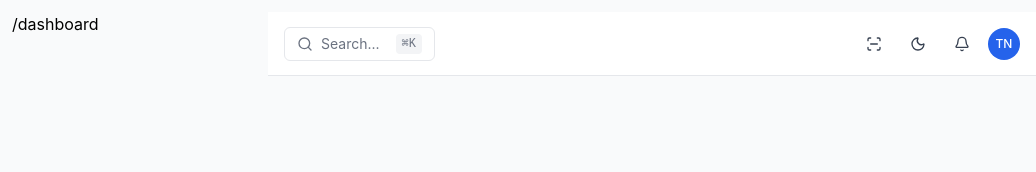
Test case: the help link in the header menu › has a scan button that opens the QR scanner, but not for a requester
The image size is (1036, 172).
Click the button named "Scan QR code" at [874, 44], box [856,26,892,62]
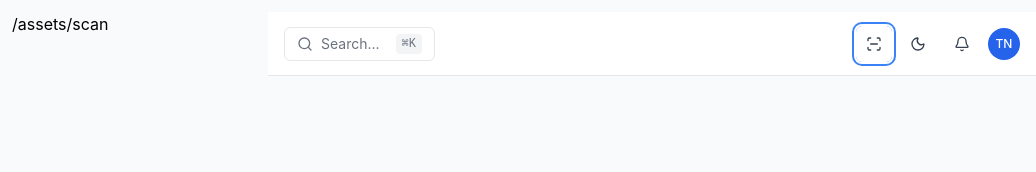
Result: the text with test id "where" reads "/assets/scan" at [12,14,108,34]
